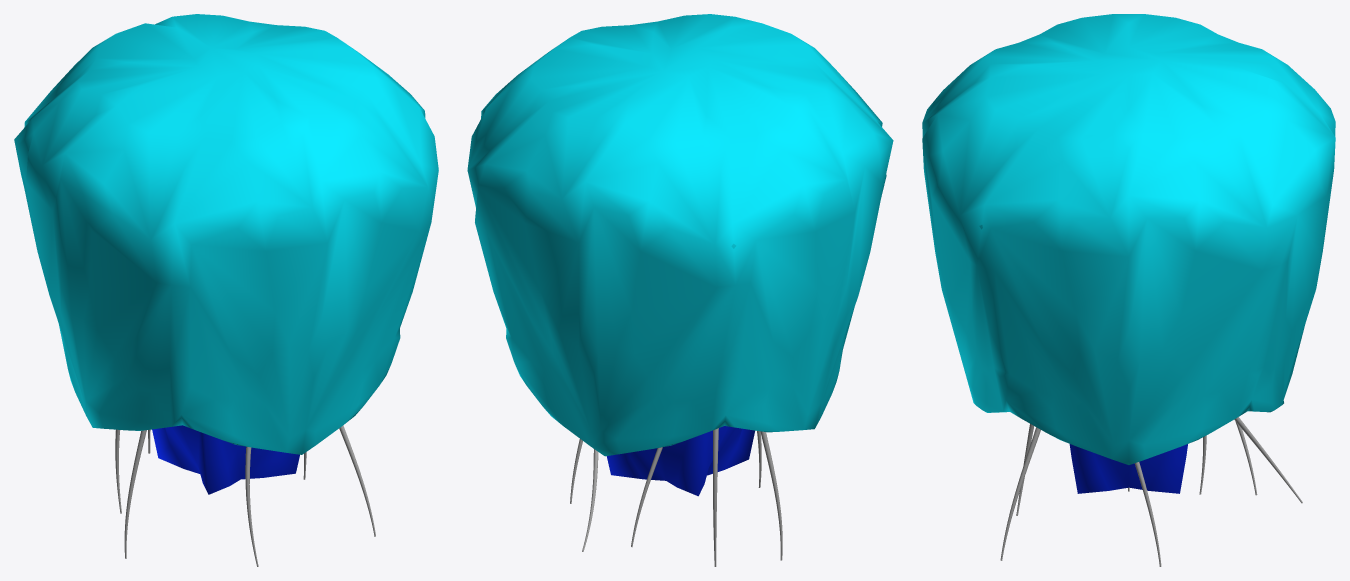
Rendered from JellyFish-Final.fbx.
The picture shows the model from 3 angles, left to right: view 1: azimuth 30°, elevation 25°; view 2: azimuth 150°, elevation 25°; view 3: azimuth 270°, elevation 25°; orthographic projection.
Visible parts, largest first — view 1: pCube3; view 2: pCube3; view 3: pCube3.
Part boxes in pixels (x1,y1,x2,y2): pCube3: (14,14,438,566); pCube3: (467,14,893,566); pCube3: (922,14,1335,566).
Bounding box in the file's own units: 1.34 × 1.73 × 1.35.
